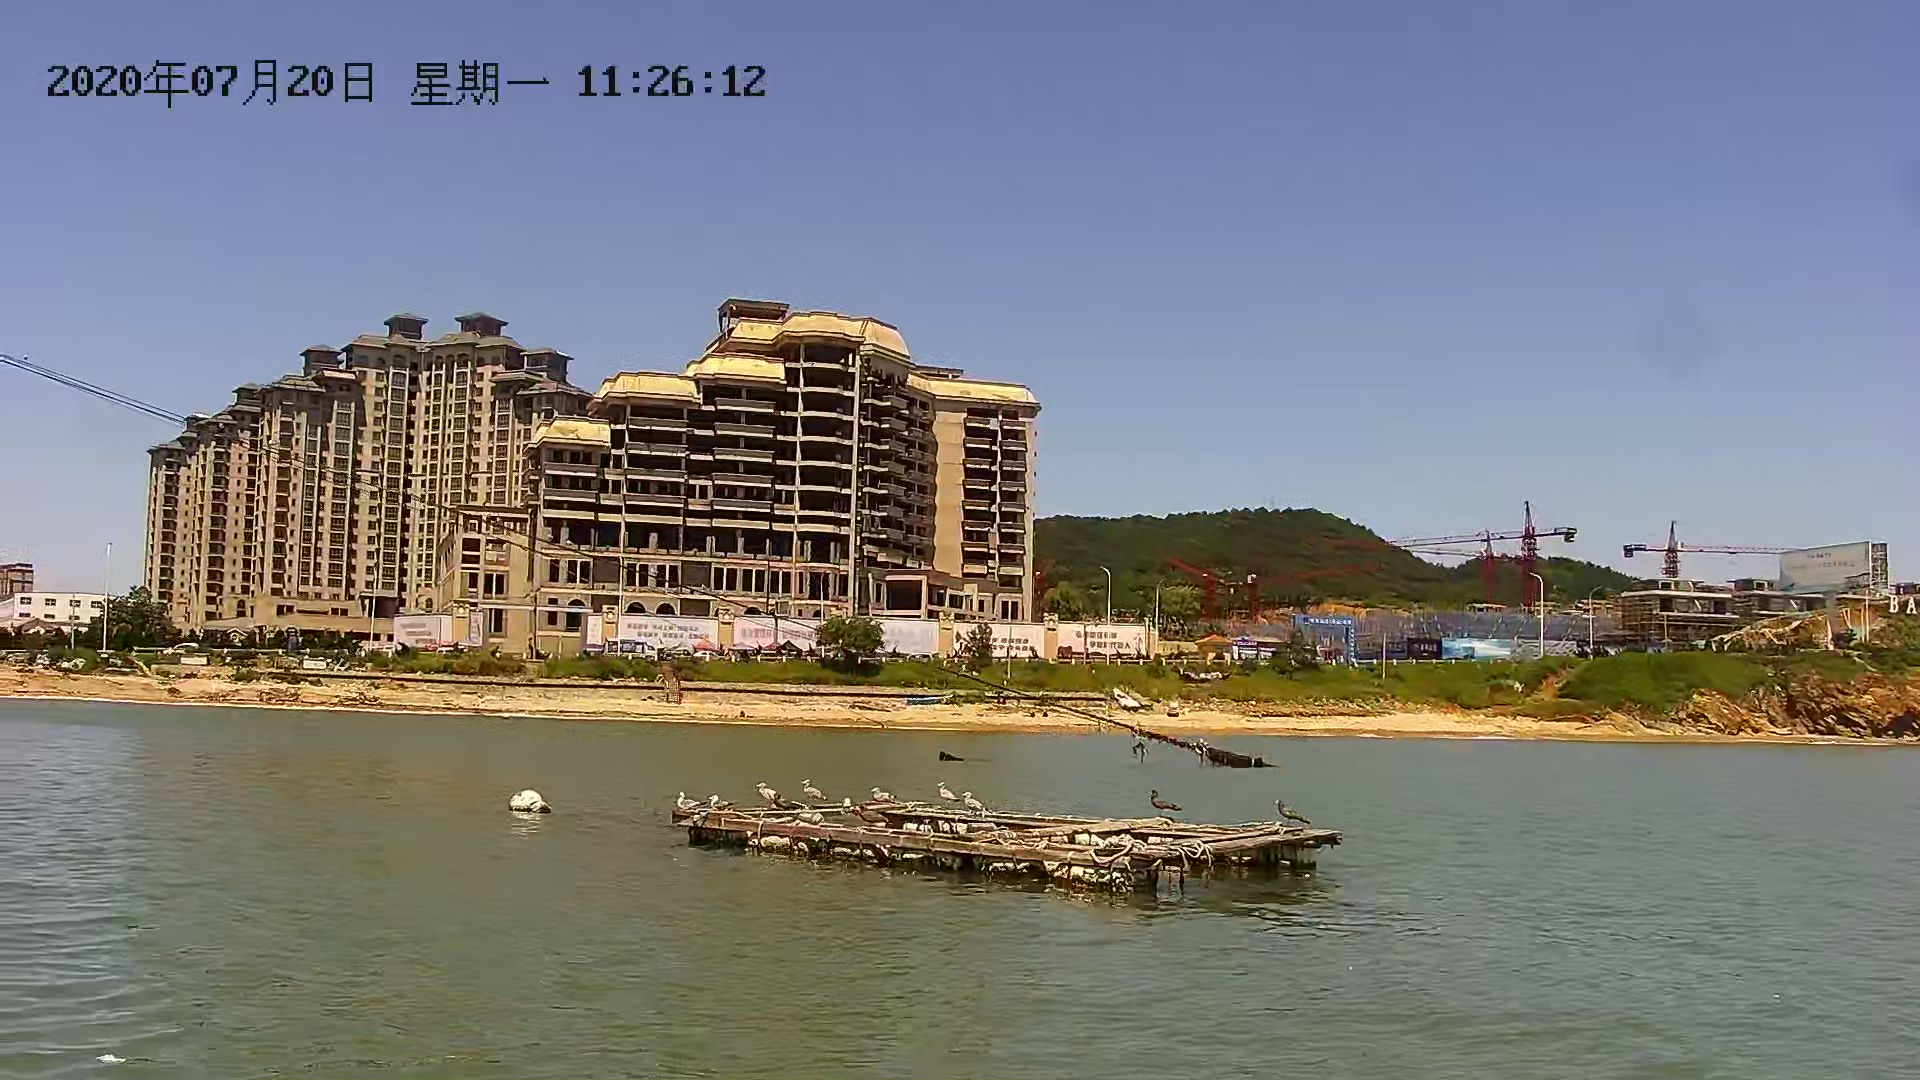platform: (647, 749, 1340, 913)
rubbish: (501, 778, 562, 825)
